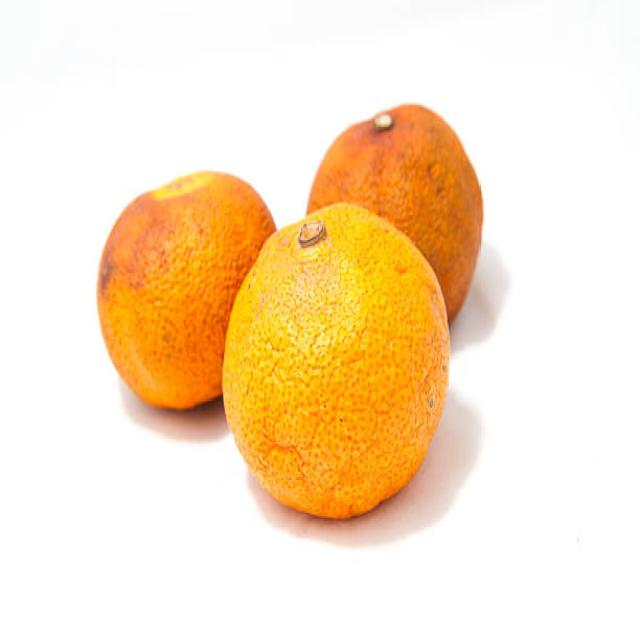overripe: (218, 199, 456, 523), (96, 159, 274, 413), (306, 101, 486, 302)
